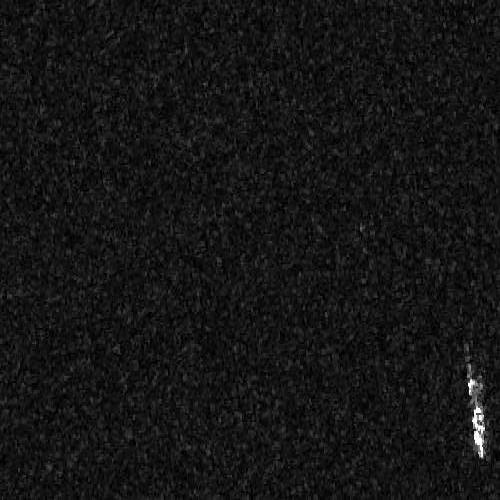ship: (468, 376, 486, 462)
